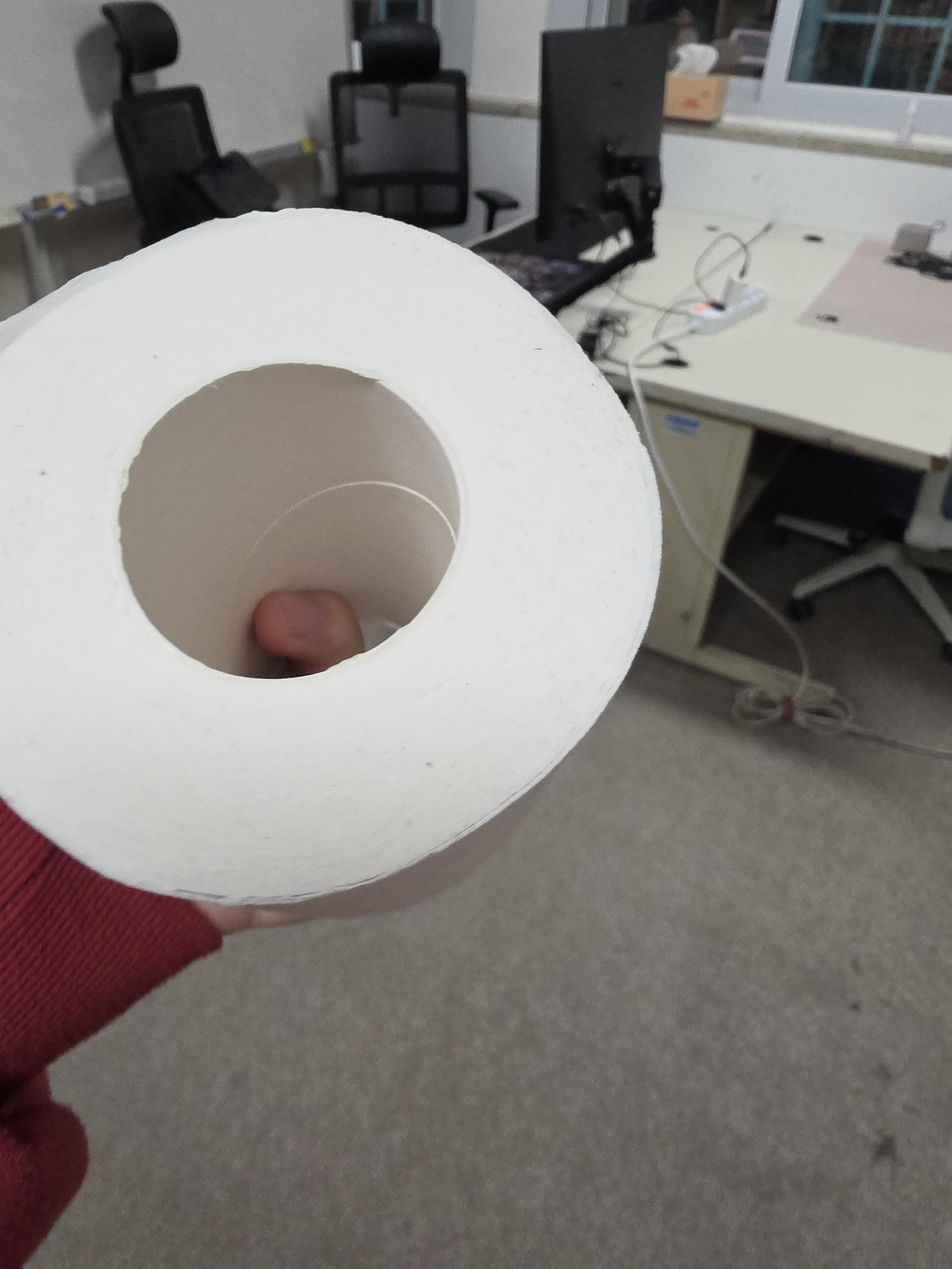tissue: (0, 207, 663, 908), (663, 42, 728, 123)
